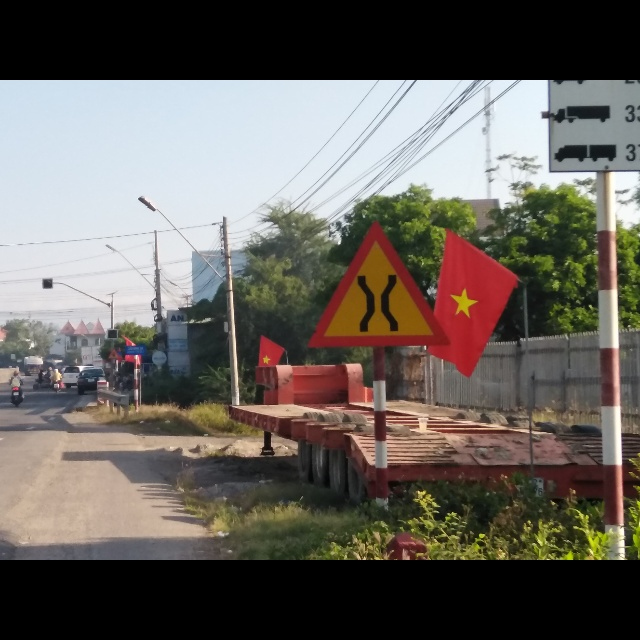Cầu hẹp: (308, 214, 455, 351)
